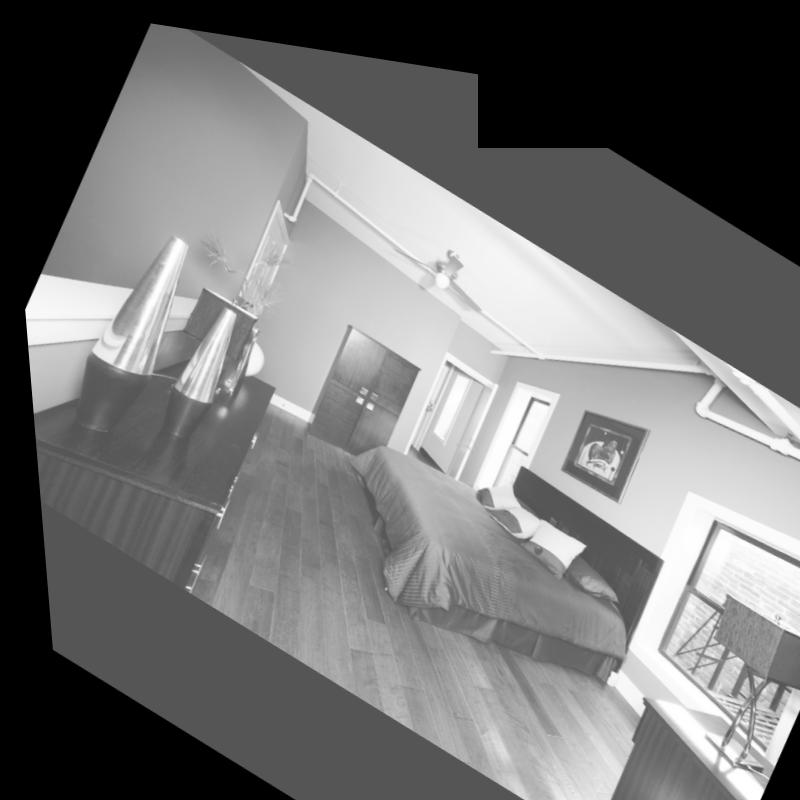pillow: (504, 493, 578, 569), (471, 470, 542, 543), (553, 529, 614, 591), (462, 453, 522, 515)
